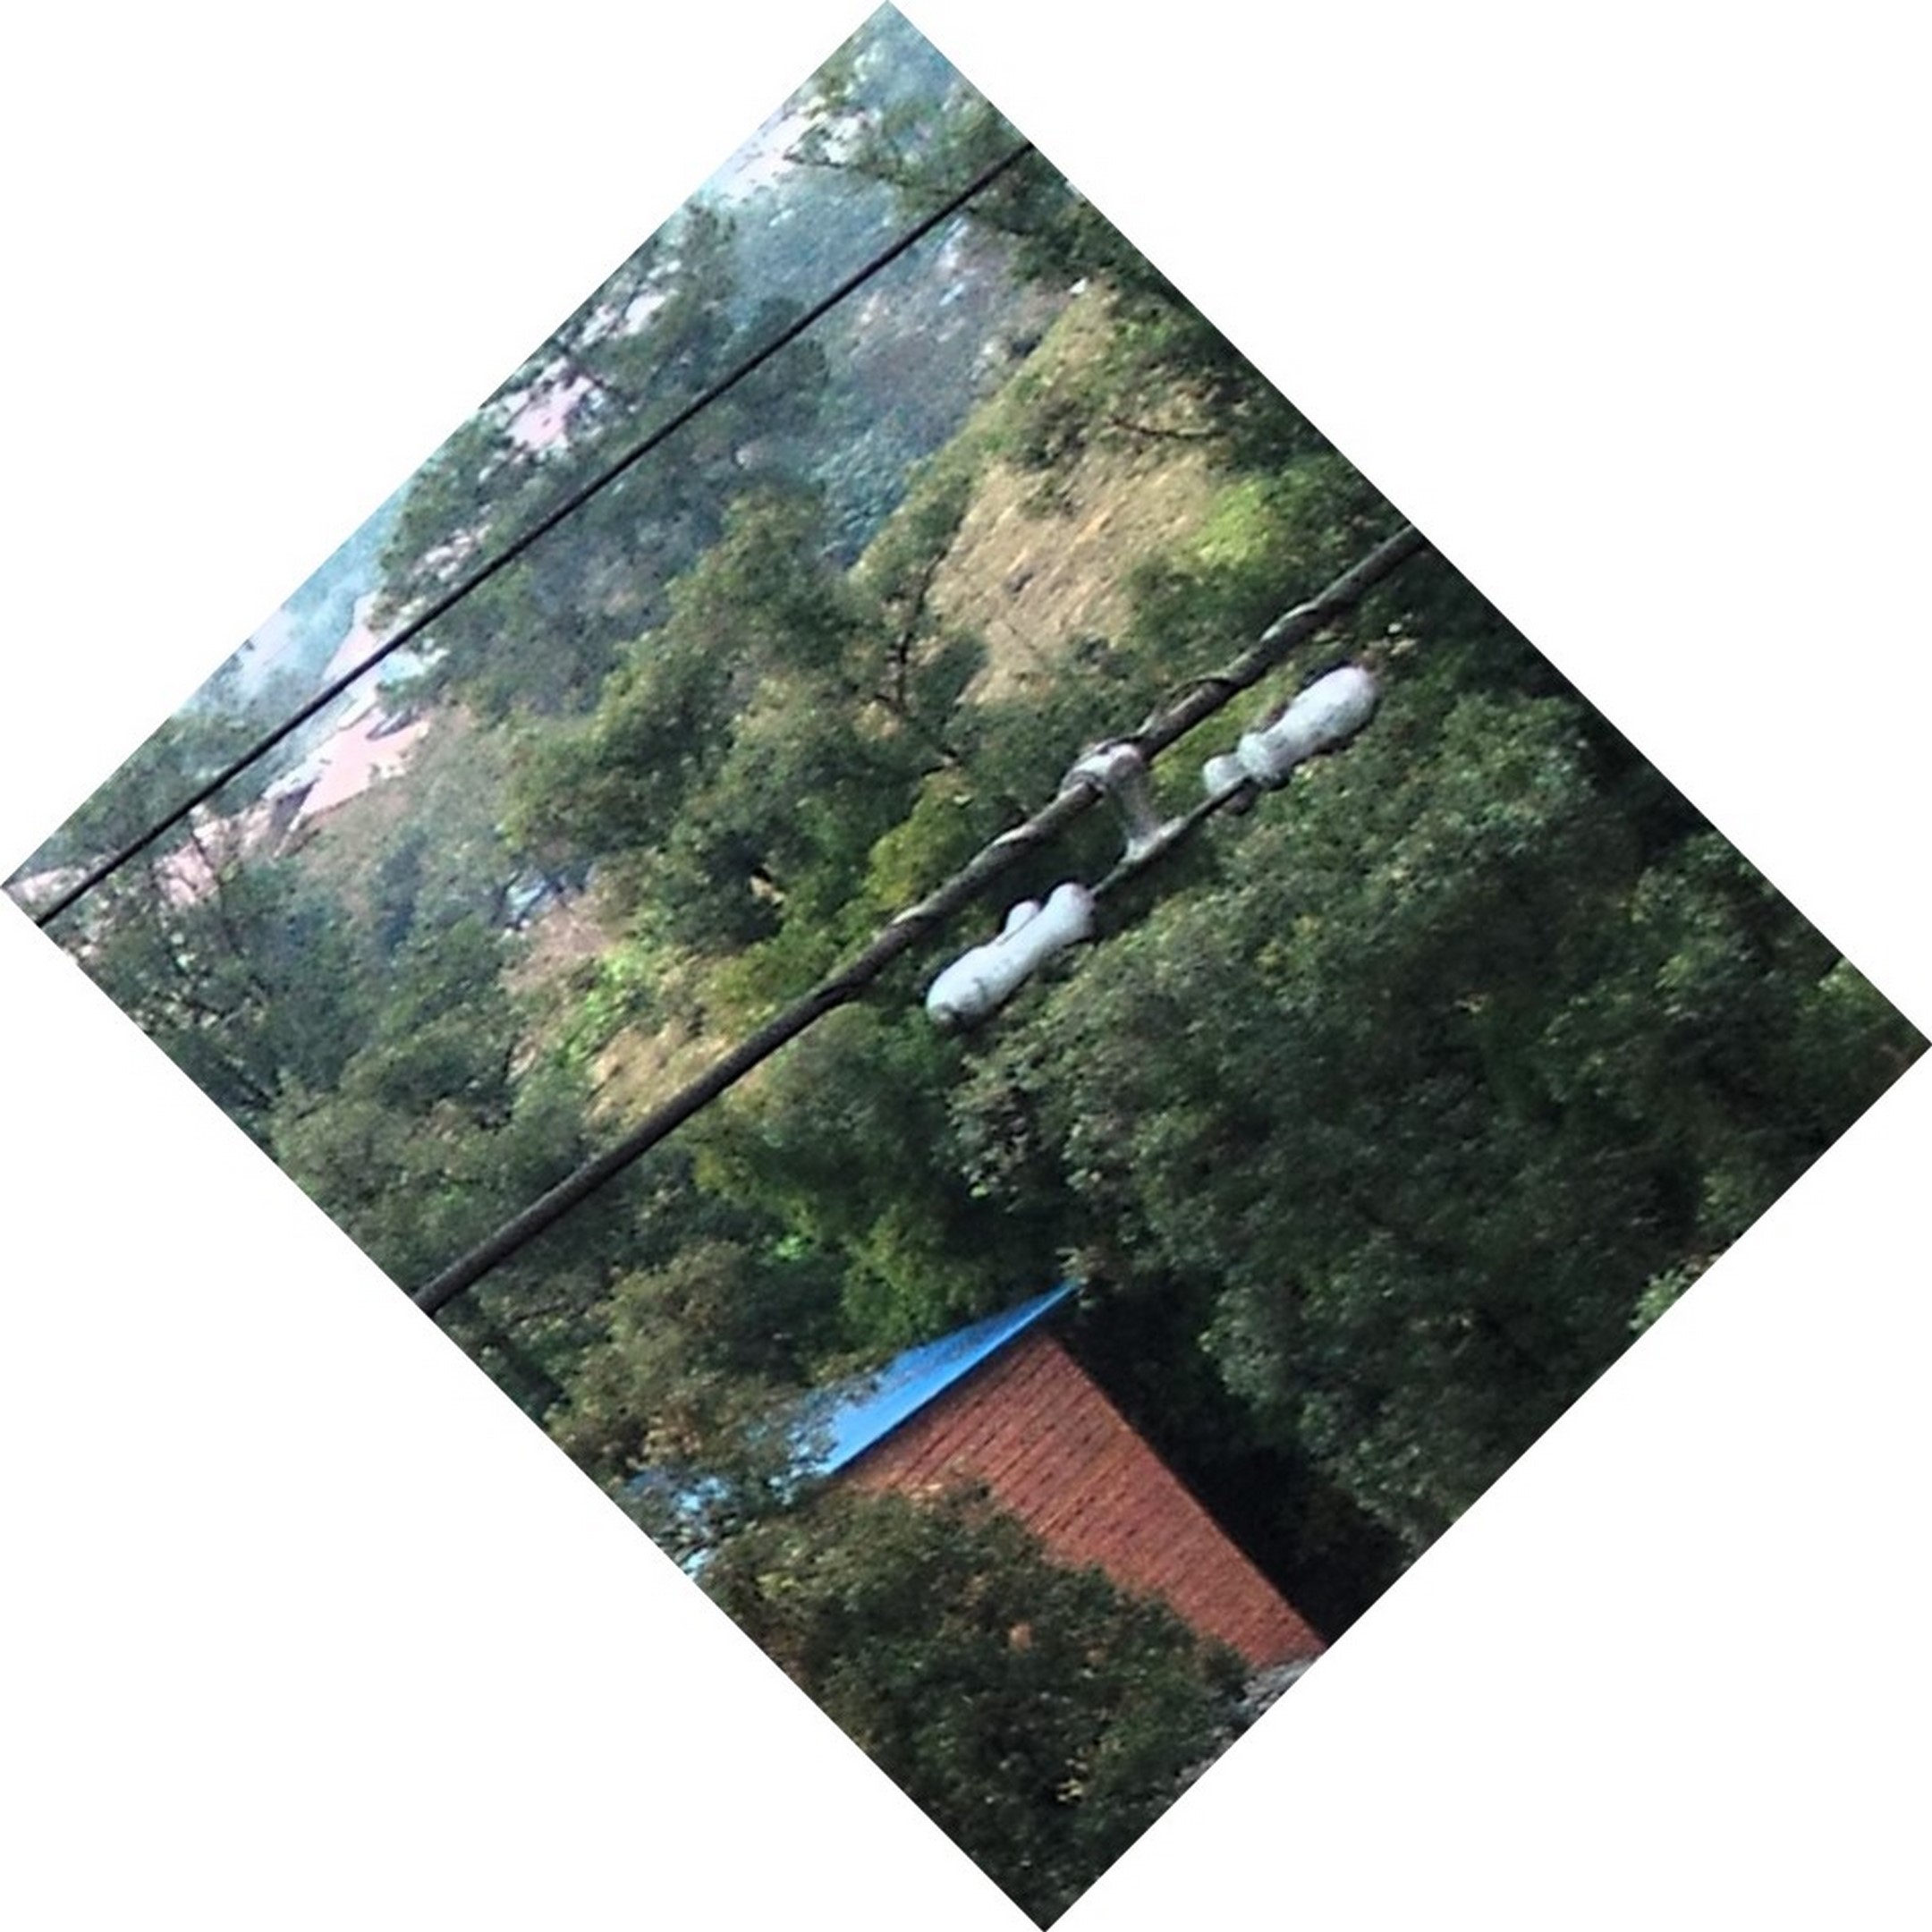Shockproof hammer: (879, 630, 1405, 1060)
